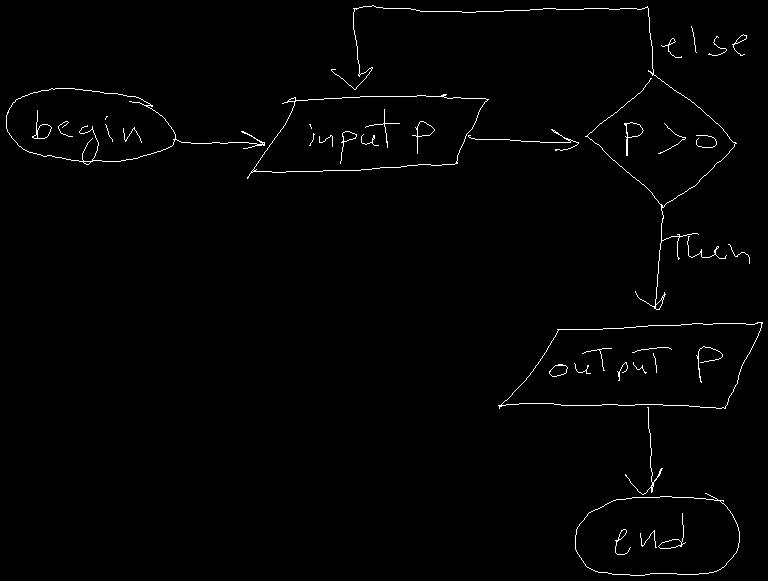arrow: (331, 5, 653, 89), (625, 407, 662, 494), (635, 204, 665, 309), (468, 129, 578, 150), (173, 131, 264, 148)
data: (498, 322, 762, 408), (247, 94, 488, 178)
decision: (585, 70, 736, 207)
terminator: (575, 493, 739, 575), (6, 88, 175, 161)
text: (309, 109, 434, 163), (549, 346, 722, 382), (32, 110, 141, 164), (624, 122, 716, 155), (615, 513, 685, 554), (661, 233, 749, 263), (661, 26, 746, 57)
